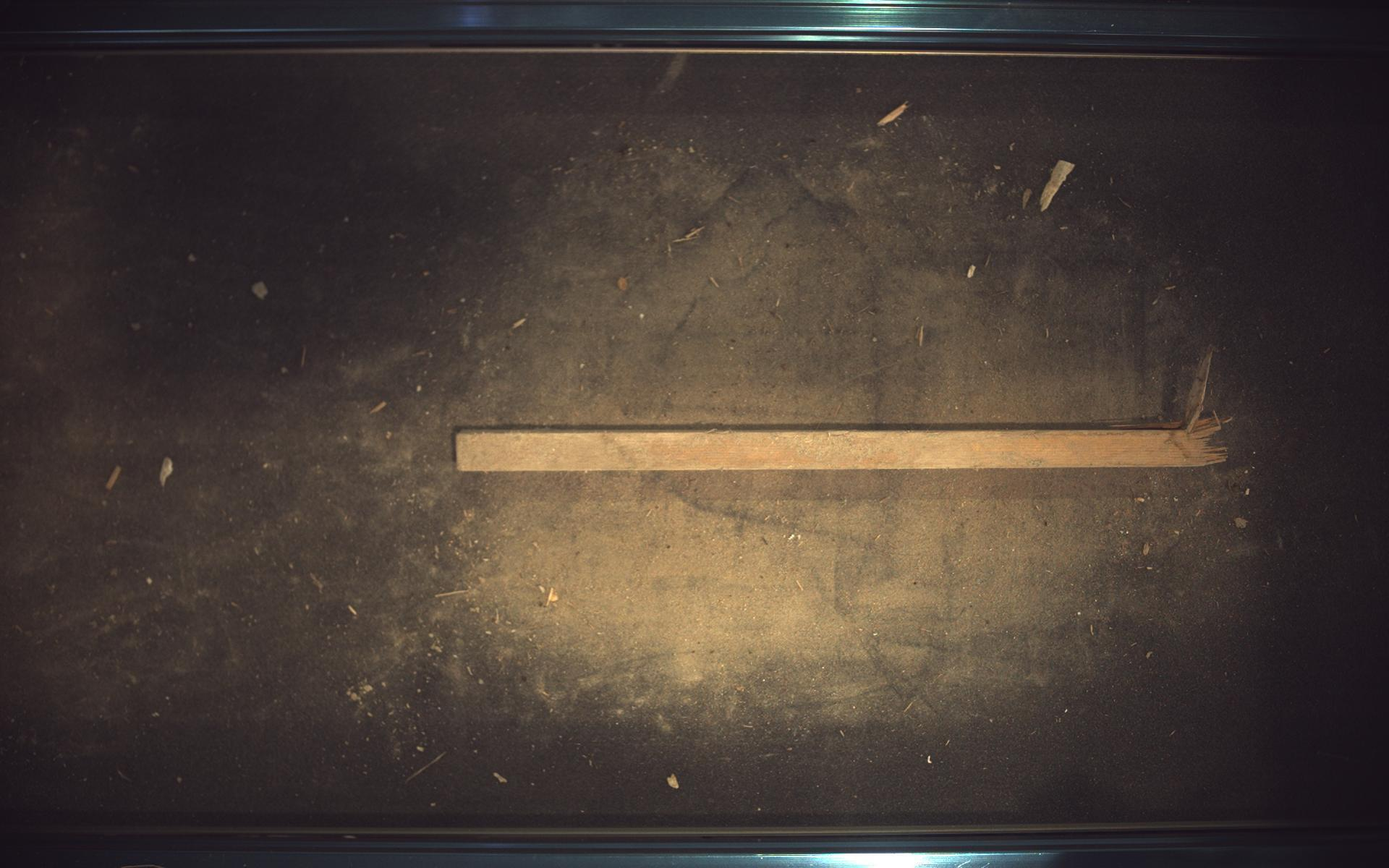wood: (455, 349, 1230, 473)
